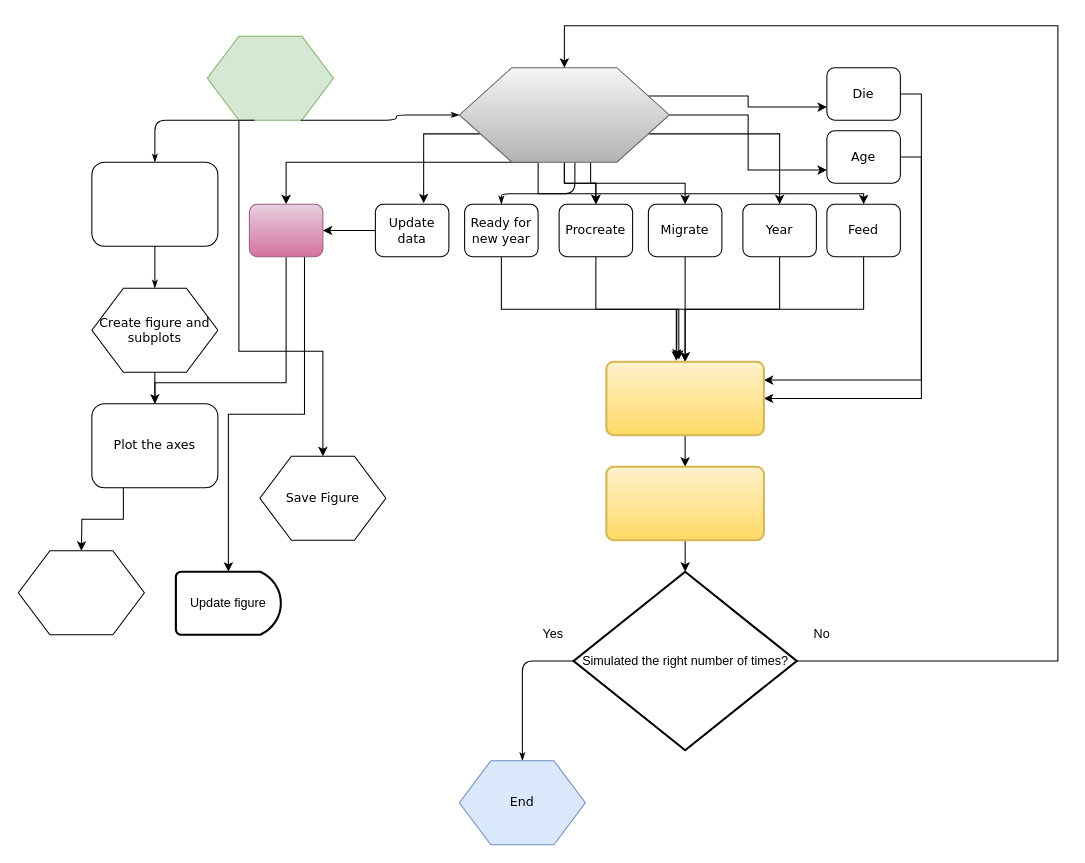
This 1085x863 diagram has some shape labels left out. Each missing label, with the centre of its shape:
"BioSim.simulate( with inputs)" belongs at (269,77).
"Data from Island" belongs at (285,230).
"Every Animal in cell is checked and altered" belongs at (684,503).
"Every cell is checked and altered" belongs at (684,398).
"Initialize Visuals" belongs at (154,203).
"Island.simulate_one_year()" belongs at (563,114).
"Show figure" belongs at (80,592).
